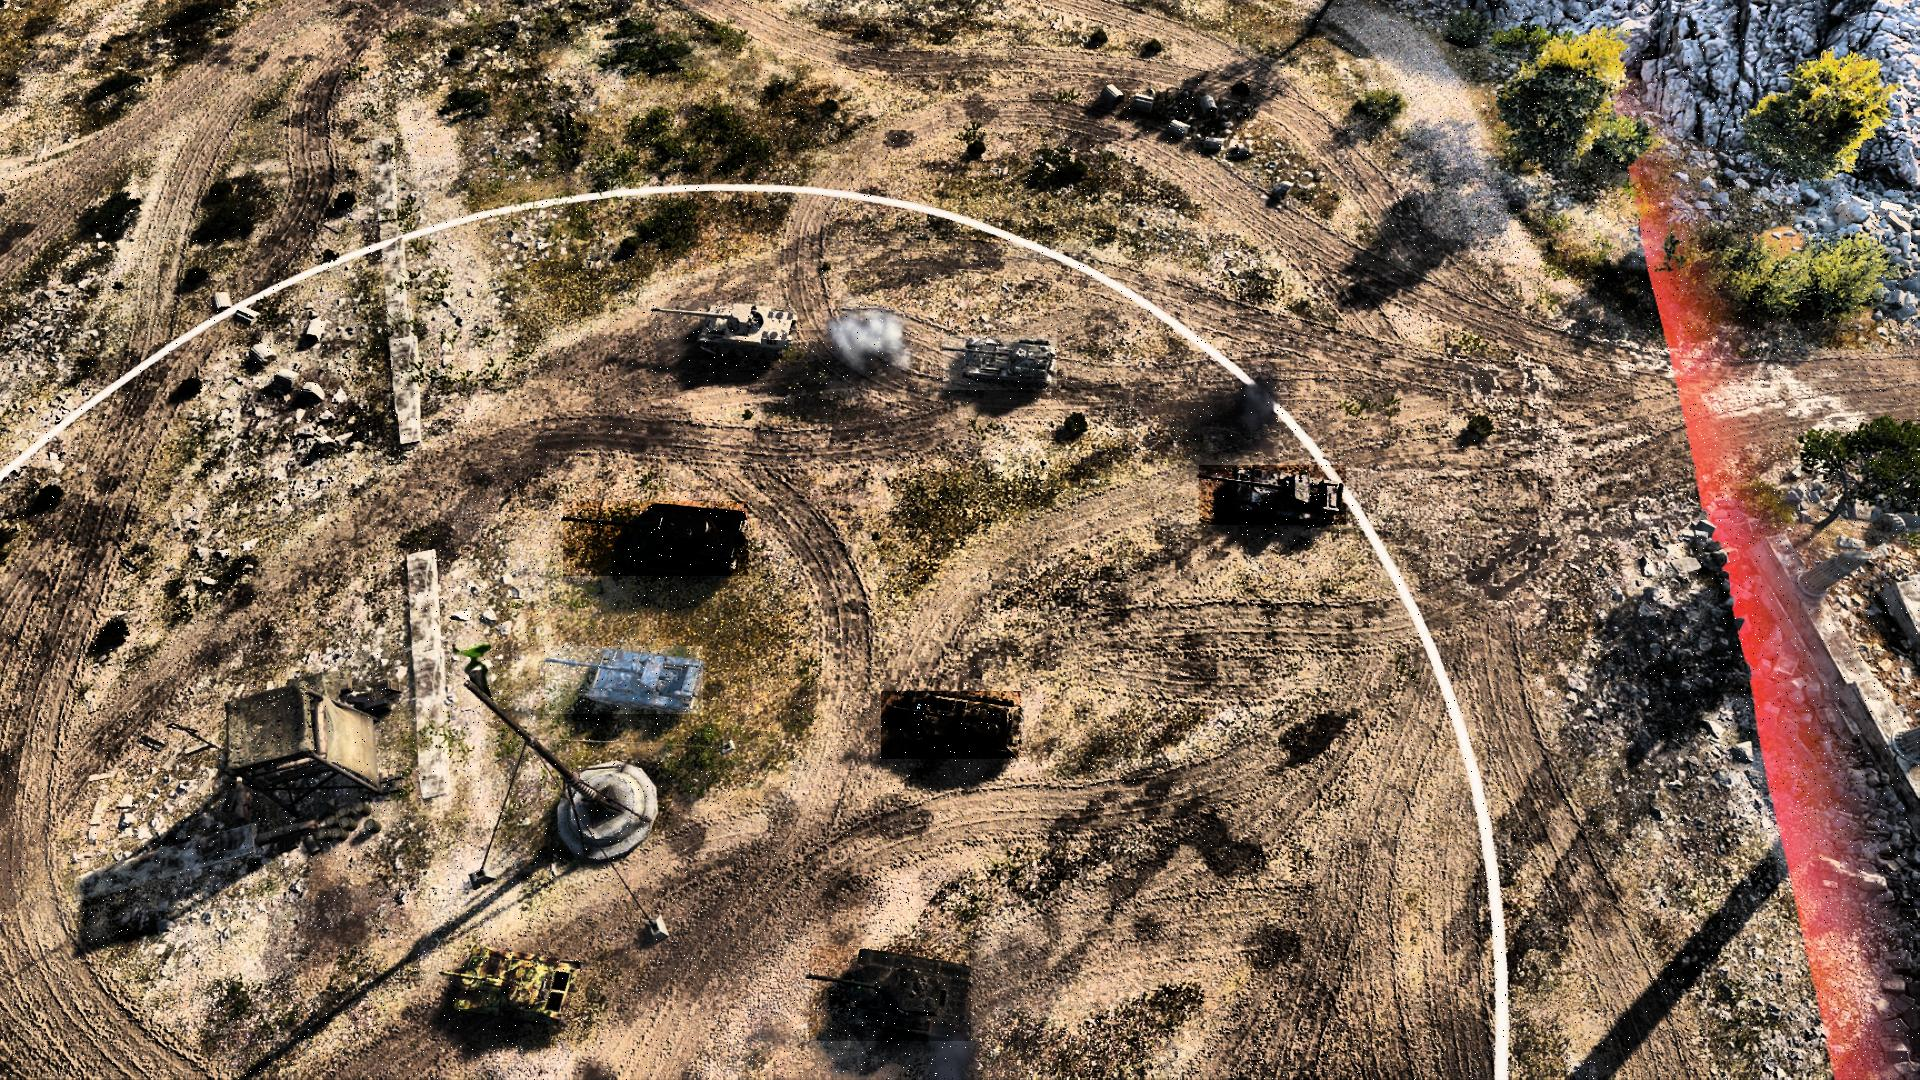military-vehicle: (810, 947, 972, 1042), (563, 501, 748, 576), (440, 948, 583, 1027), (545, 646, 703, 715), (882, 692, 1022, 760), (1200, 465, 1346, 525), (653, 302, 796, 356), (943, 335, 1056, 390)
